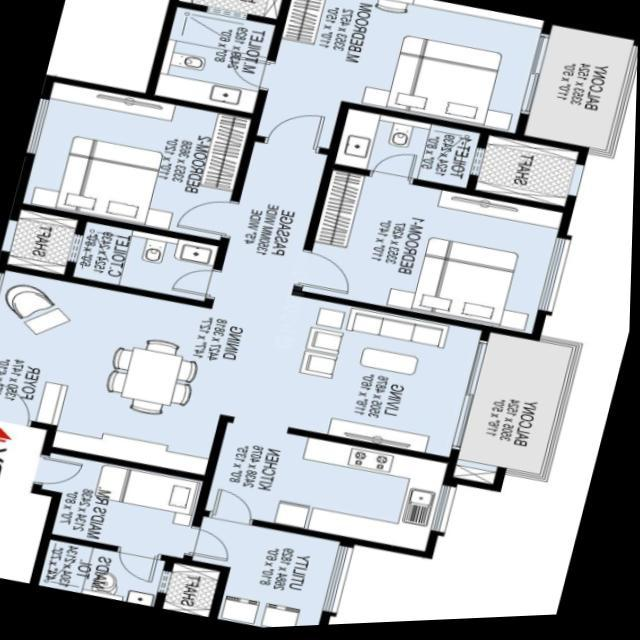Balcony-Sitout: (453, 330, 581, 486), (523, 26, 638, 163)
Bedroom: (18, 77, 262, 242), (44, 448, 210, 562)
Bedroom with Toilet: (297, 107, 572, 342), (152, 0, 554, 156)
Dining: (97, 331, 208, 424)
Enterance-Foyer: (0, 345, 49, 443)
Kitchen: (200, 416, 457, 562)
Living: (285, 297, 491, 469)
Toilet: (147, 0, 286, 120), (71, 215, 233, 310), (328, 106, 489, 197), (36, 535, 178, 610)
Utility: (214, 519, 351, 630)
